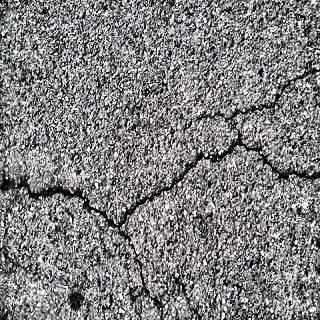crack: (0, 140, 320, 226), (198, 70, 320, 144), (112, 226, 170, 310)
